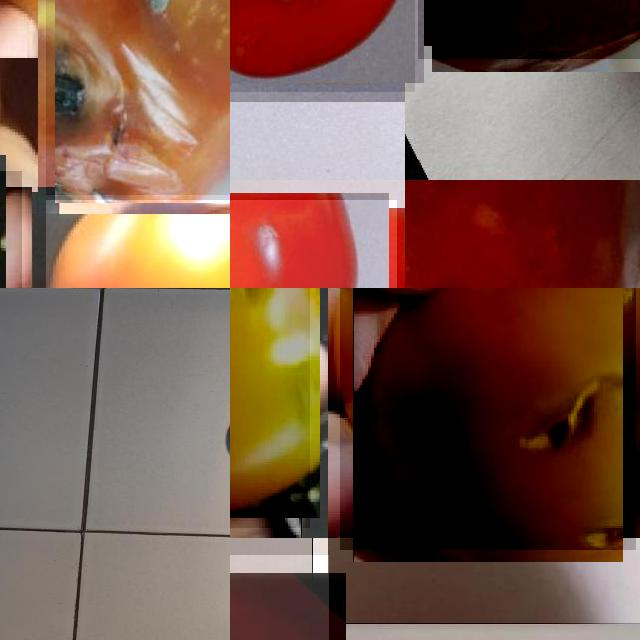0: (230, 0, 414, 92), (230, 200, 397, 288)
1: (405, 180, 640, 288)
Fresh Tomato: (46, 200, 230, 288)
Rotten Tomato: (340, 288, 635, 550), (46, 0, 230, 195), (230, 288, 310, 528)
